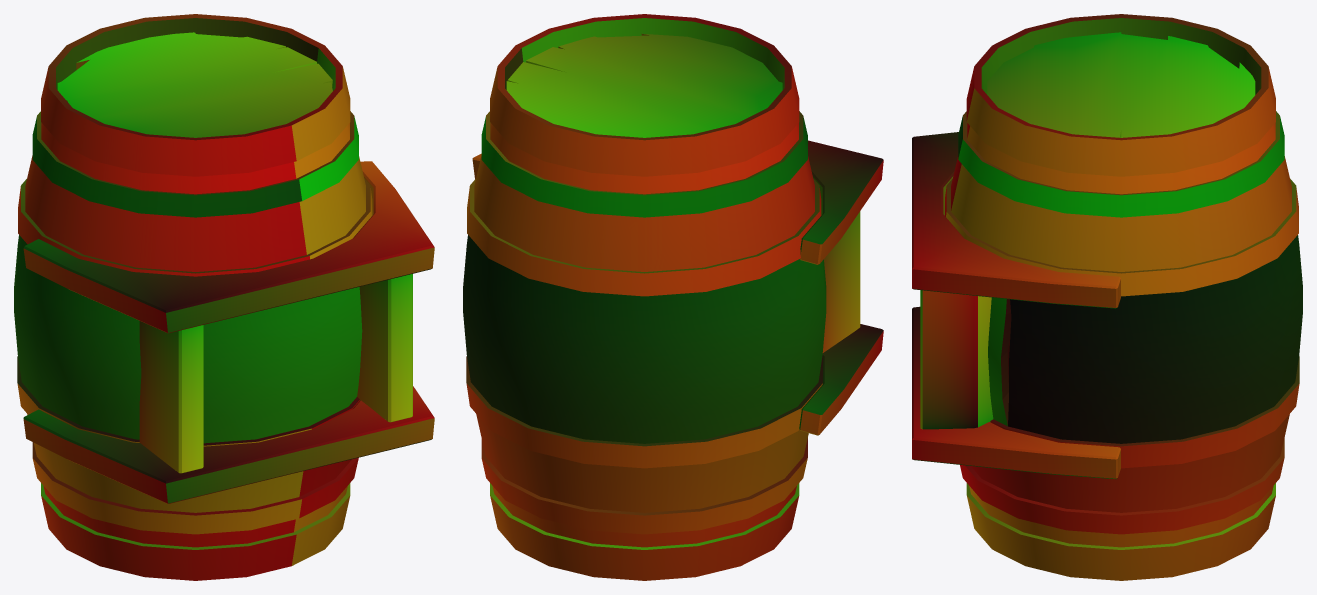
Rendered from SM_Barrel.fbx.
3 views of the same model, side by side, from view 1: azimuth 30°, elevation 25°; view 2: azimuth 150°, elevation 25°; view 3: azimuth 270°, elevation 25° (orthographic).
Parts seen in each view (by area): view 1: Barrel001, SUPPORT001, Couvercle001; view 2: Barrel001, Couvercle001, SUPPORT001; view 3: Barrel001, SUPPORT001, Couvercle001.
Part boxes in pixels (<box>): Barrel001: <box>14,14,372,580</box>; SUPPORT001: <box>23,161,434,503</box>; Couvercle001: <box>57,32,332,137</box>; Barrel001: <box>463,14,826,580</box>; Couvercle001: <box>506,33,782,137</box>; SUPPORT001: <box>472,140,883,435</box>; Barrel001: <box>945,14,1302,580</box>; SUPPORT001: <box>912,132,1120,479</box>; Couvercle001: <box>987,32,1255,137</box>.
Size of the model in its own units: 0.8804 by 1.06 by 0.8518.
